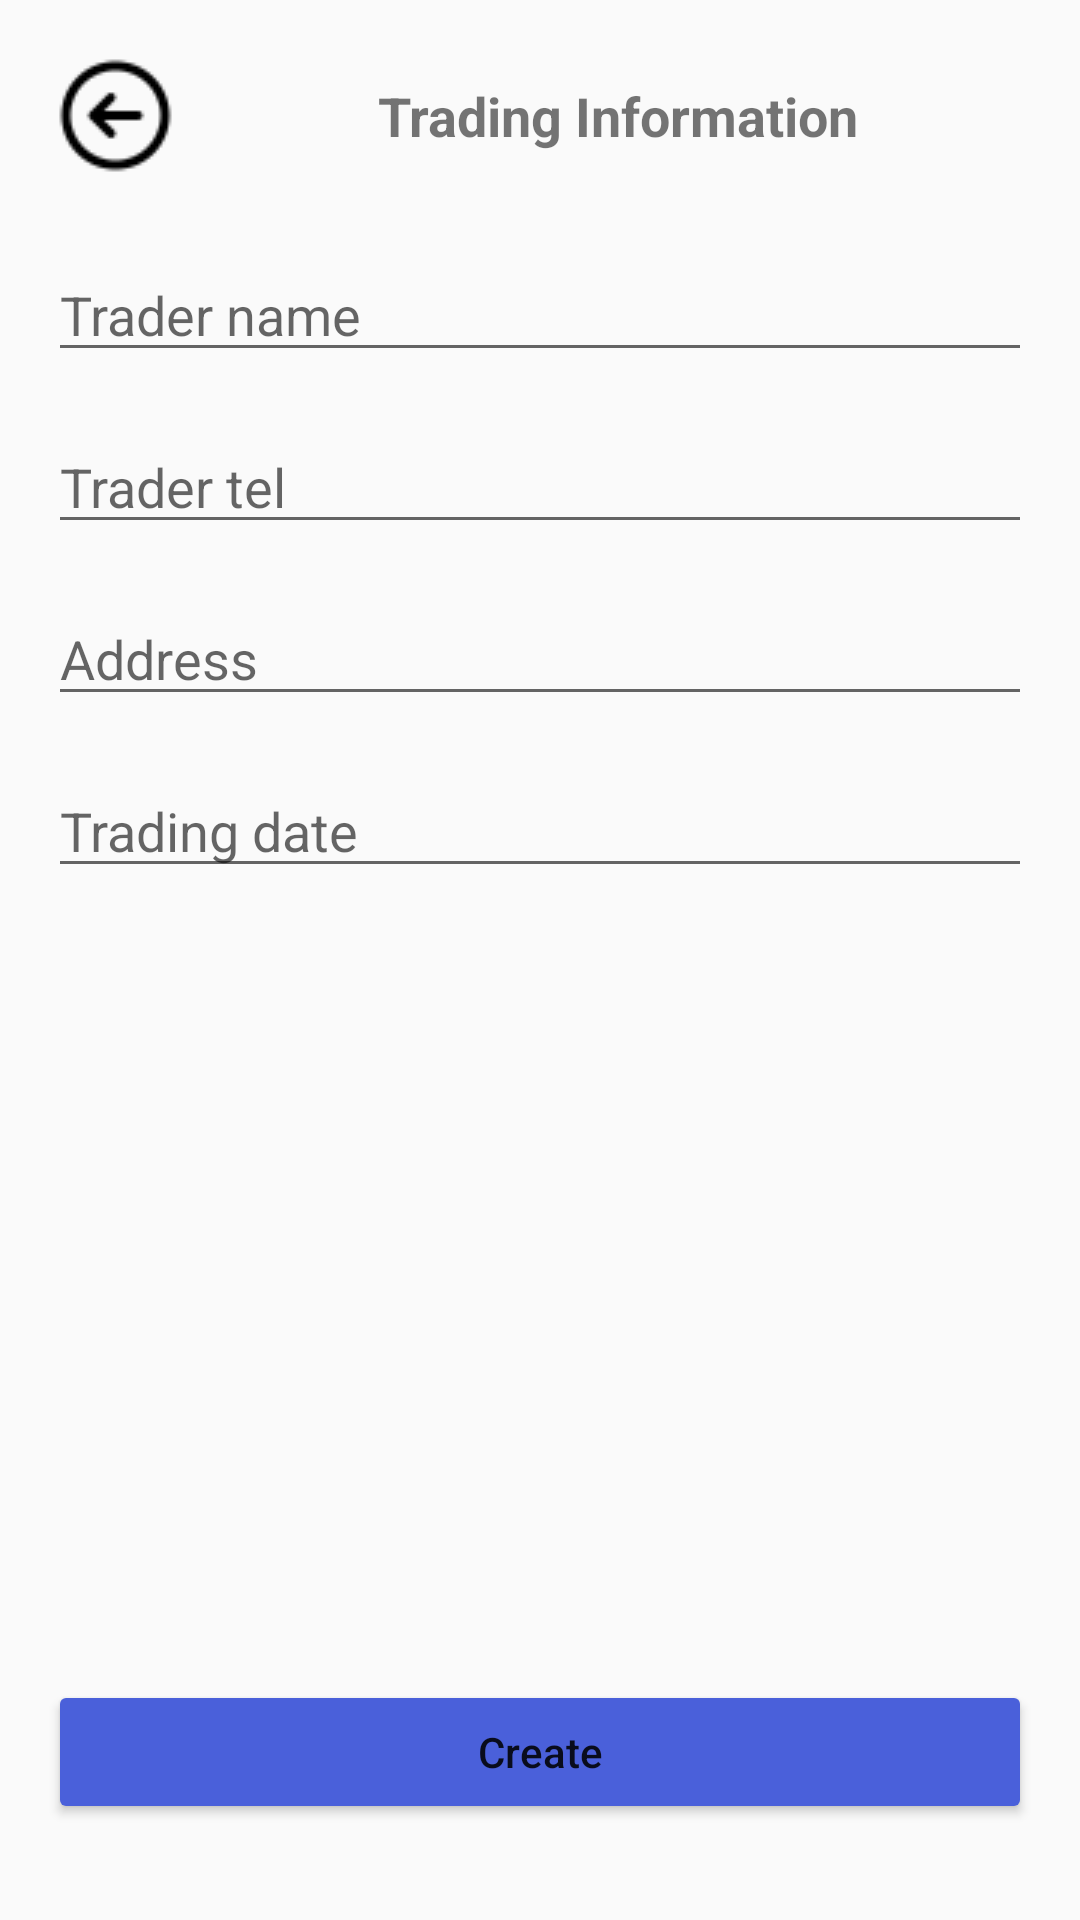

Named icons in this screenshot (1080w x 1920h) and their centers, (x,y):
back: (115,115)
